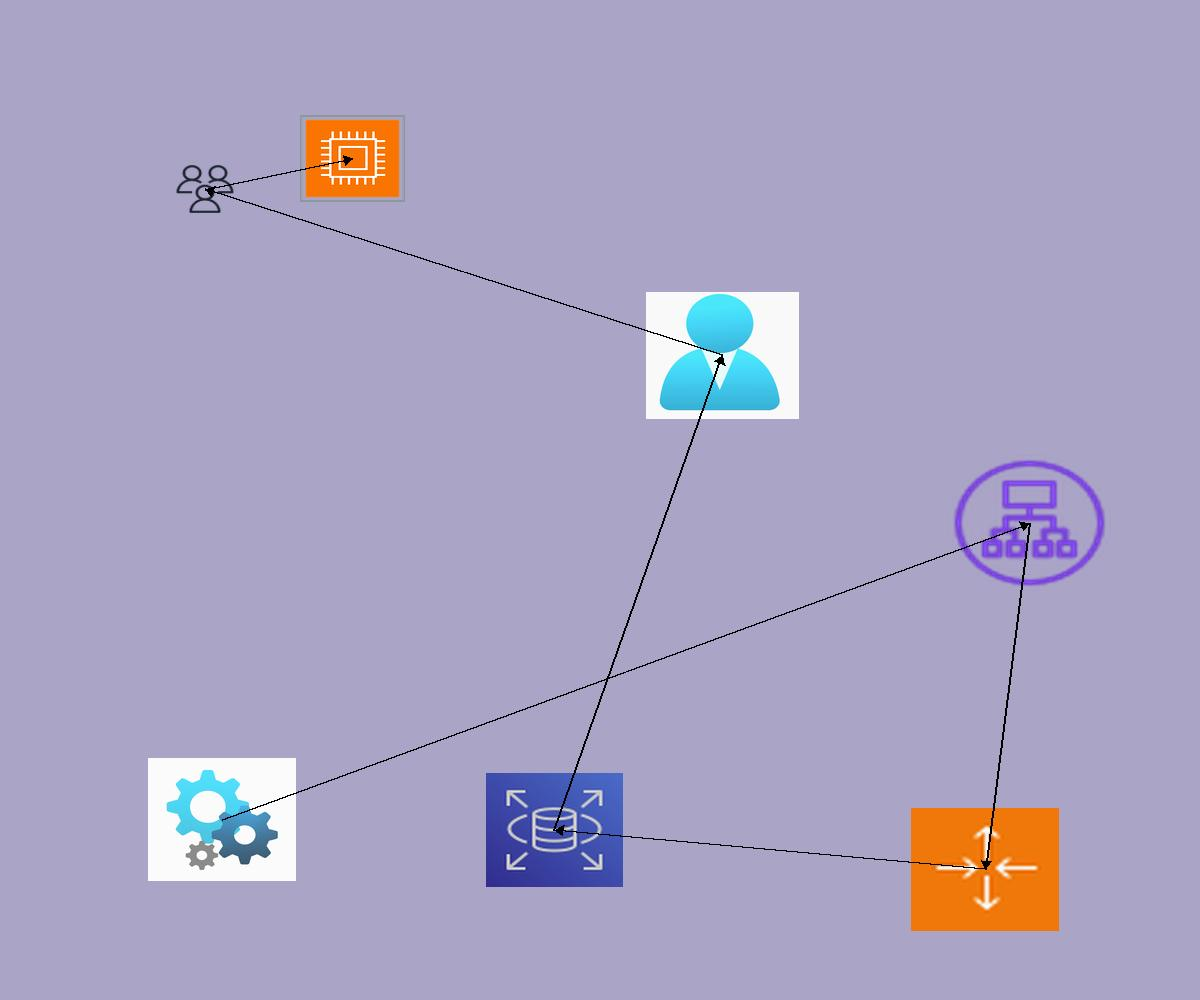AWS-Category_Compute: (300, 115, 405, 202)
AWS-RDS: (486, 773, 623, 887)
AWS-Res_Elastic-Load-Balancing_Application-Load-Balancer: (948, 455, 1111, 591)
AWS-Res_Users: (174, 163, 236, 215)
AWS-Scaling-group: (911, 808, 1059, 931)
Azure_api: (148, 758, 296, 881)
Azure_users: (646, 292, 799, 419)
